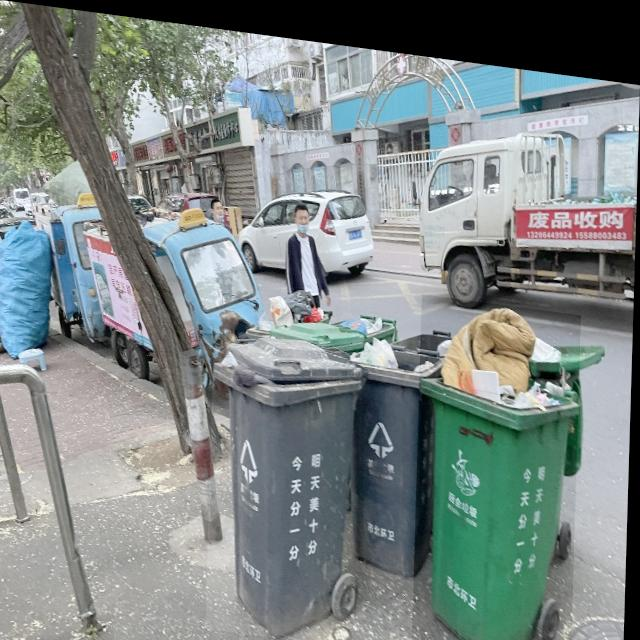overflow: (415, 282, 582, 640), (209, 322, 364, 638), (349, 322, 444, 569)
